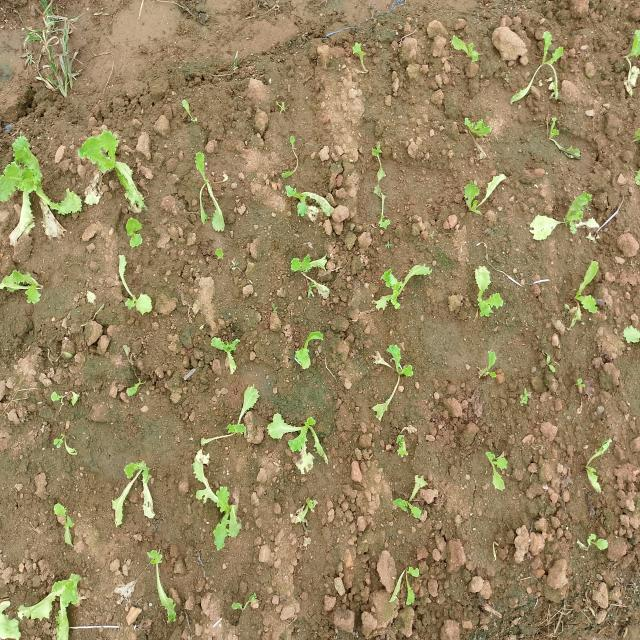Lettuce: (0, 130, 80, 244), (188, 382, 274, 450), (187, 449, 245, 548), (16, 572, 86, 640), (509, 22, 565, 106), (365, 332, 419, 419), (529, 173, 594, 244), (108, 251, 157, 329), (559, 254, 609, 328), (186, 147, 227, 237), (371, 259, 438, 312), (75, 125, 136, 182), (284, 178, 338, 242), (268, 410, 333, 462), (147, 541, 185, 626), (110, 456, 155, 526), (459, 166, 515, 219), (583, 422, 617, 501), (474, 261, 509, 331), (208, 316, 243, 384), (291, 248, 334, 298), (1, 266, 52, 308), (382, 558, 424, 609), (391, 468, 430, 520), (543, 114, 583, 163), (482, 439, 518, 493), (611, 27, 640, 89), (47, 501, 77, 556), (290, 323, 323, 373), (374, 134, 390, 232), (118, 206, 145, 253), (448, 31, 481, 68), (50, 428, 83, 465), (462, 109, 491, 151), (344, 39, 372, 80), (477, 344, 504, 385), (0, 588, 20, 639)
